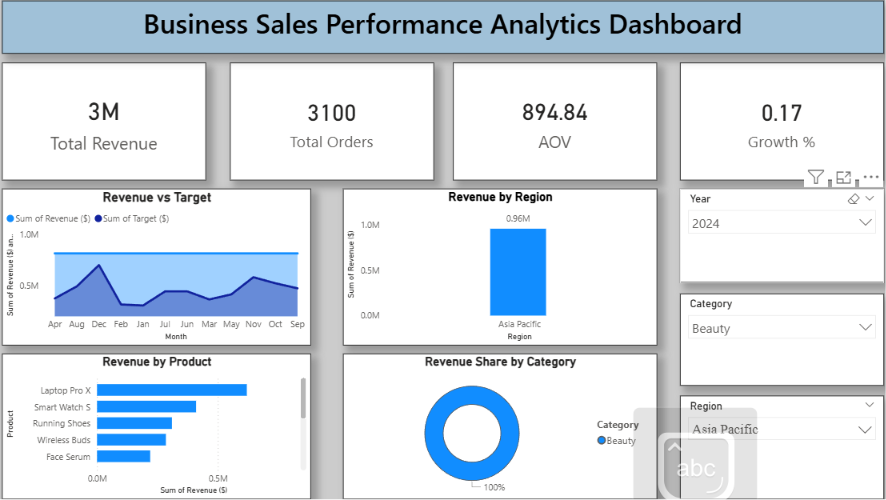

Layout of this report page (visuals, bound fields, positions):
{"tool":"powerbi","page":{"name":"Page 1","canvas":[1280,720],"ordinal":0},"visuals":[{"type":"card","fields":{"Values":["Category Summary.Total Revenue"]},"box":[46.7,111.1,279.9,161.9],"z":0},{"type":"card","fields":{"Values":["Category Summary.Total Orders"]},"box":[359.5,111.1,279.9,161.9],"z":1000},{"type":"card","fields":{"Values":["Category Summary.AOV"]},"box":[665.5,111.1,279.9,161.9],"z":2000},{"type":"card","fields":{"Values":["Category Summary.Growth %"]},"box":[977,111.1,279.9,161.9],"z":3000},{"type":"lineChart","title":"Revenue vs Target","fields":{"Category":["Monthly Revenue.Month"],"Y":["Sum(Category Summary.Revenue ($))","Sum(Monthly Revenue.Target ($))"]},"box":[46.7,284,424,215.4],"z":4000},{"type":"clusteredBarChart","title":"Revenue by Product","fields":{"Category":["Product Sales.Product"],"Y":["Sum(Product Sales.Revenue ($))"]},"box":[46.7,510.5,424,200.3],"z":5000},{"type":"clusteredColumnChart","title":"Revenue by Region","fields":{"Category":["Regional Sales.Region"],"Y":["Sum(Regional Sales.Revenue ($))"]},"box":[514.6,284,430.9,215.4],"z":6000},{"type":"donutChart","title":" Revenue Share by Category","fields":{"Category":["Category Summary.Category"],"Y":["Sum(Category Summary.Revenue ($))"]},"box":[514.6,510.5,430.9,200.3],"z":7000},{"type":"slicer","fields":{"Values":["Monthly Revenue.Year"]},"box":[977,284,279.9,129],"z":8000},{"type":"slicer","fields":{"Values":["Category Summary.Category"]},"box":[977,428.1,279.9,126.2],"z":9000},{"type":"slicer","fields":{"Values":["Regional Sales.Region"]},"box":[977,568.1,279.9,142.7],"z":10000},{"type":"textbox","box":[46.7,26.1,1210.3,72.7],"z":11000}]}

Visuals, with their boxes in screenshot pixels (x1, y1, x2, y2), scaled from the page's 1280x720 canvas onto the 886x500 screenshot:
card - Category Summary.Total Revenue: l=32, t=77, r=226, b=190
card - Category Summary.Total Orders: l=249, t=77, r=443, b=190
card - Category Summary.AOV: l=461, t=77, r=654, b=190
card - Category Summary.Growth %: l=676, t=77, r=870, b=190
"Revenue vs Target" lineChart: l=32, t=197, r=326, b=347
"Revenue by Product" clusteredBarChart: l=32, t=355, r=326, b=494
"Revenue by Region" clusteredColumnChart: l=356, t=197, r=654, b=347
" Revenue Share by Category" donutChart: l=356, t=355, r=654, b=494
slicer - Monthly Revenue.Year: l=676, t=197, r=870, b=287
slicer - Category Summary.Category: l=676, t=297, r=870, b=385
slicer - Regional Sales.Region: l=676, t=395, r=870, b=494
textbox: l=32, t=18, r=870, b=69
